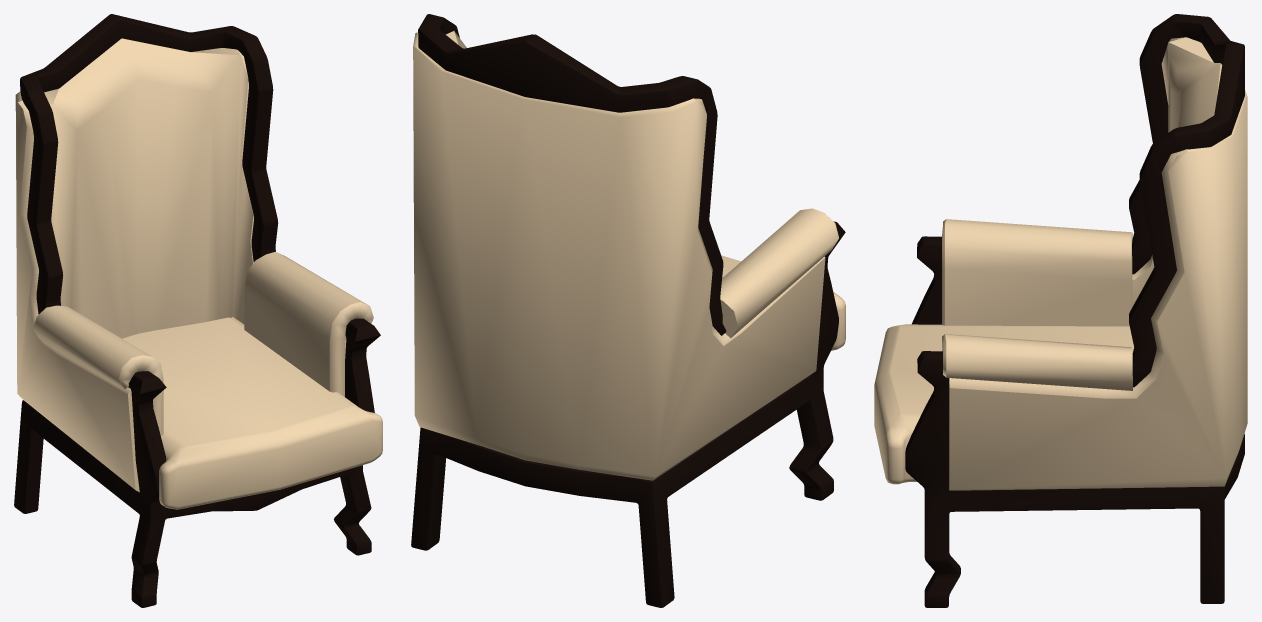
File: Sillon.fbx
The picture shows the model from 3 angles, left to right: view 1: azimuth 30°, elevation 25°; view 2: azimuth 150°, elevation 25°; view 3: azimuth 270°, elevation 25°; orthographic projection. The views are drawn at different scales.
Parts seen in each view (by area): view 1: Cuero, Pata, Cojín, Posabrazos Izq; view 2: Cuero, Pata, Posabrazos Izq, Cojín; view 3: Cuero, Pata, Posabrazos Izq, Cojín.
Boxes of the visible parts, x1=… form: Cuero: x1=15, y1=38, x2=346, y2=492; Pata: x1=14, y1=14, x2=380, y2=607; Cojín: x1=122, y1=317, x2=382, y2=509; Posabrazos Izq: x1=33, y1=251, x2=373, y2=435; Cuero: x1=413, y1=31, x2=825, y2=480; Pata: x1=411, y1=14, x2=845, y2=607; Posabrazos Izq: x1=720, y1=208, x2=838, y2=338; Cojín: x1=721, y1=255, x2=845, y2=350; Cuero: x1=949, y1=37, x2=1247, y2=490; Pata: x1=905, y1=14, x2=1244, y2=607; Posabrazos Izq: x1=942, y1=219, x2=1132, y2=390; Cojín: x1=874, y1=324, x2=1133, y2=484.
Size of the model in its own units: 25.63 by 44.28 by 29.73.
